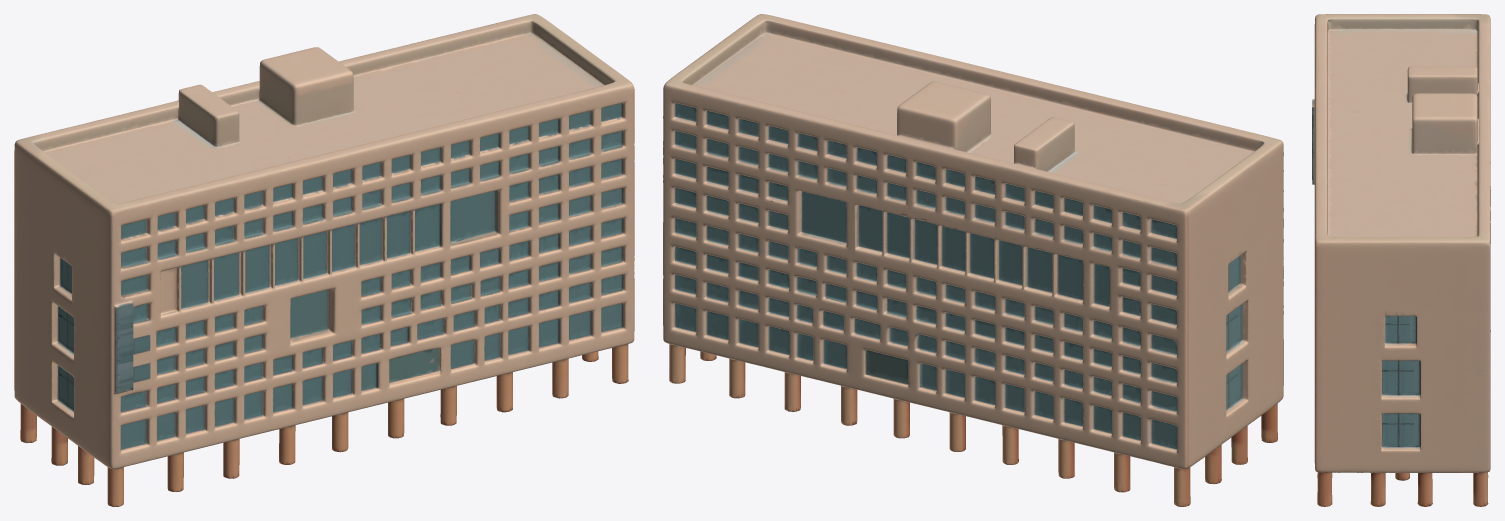
File: yeongu.glb
3 views of the same model, side by side, from view 1: azimuth 30°, elevation 25°; view 2: azimuth 150°, elevation 25°; view 3: azimuth 270°, elevation 25° (orthographic). The views are drawn at different scales.
Parts seen in each view (by area): view 1: Mesh_0.003; view 2: Mesh_0.003; view 3: Mesh_0.003.
Part boxes in pixels (x1,y1,x2,y2): Mesh_0.003: (14, 14, 634, 506); Mesh_0.003: (663, 14, 1283, 506); Mesh_0.003: (1312, 14, 1490, 506).
Bounding box in the file's own units: 58.2 × 34.55 × 19.19.
1 material, 1 textured.
